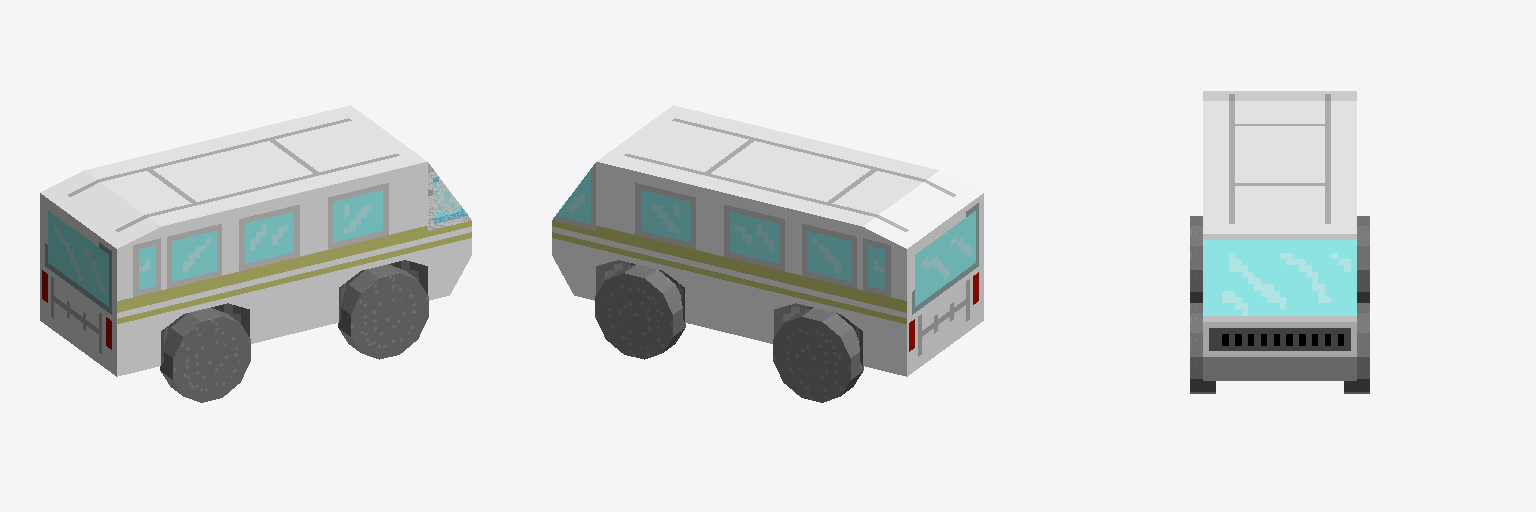
3 renders of one model, left to right at view 1: azimuth 30°, elevation 25°; view 2: azimuth 150°, elevation 25°; view 3: azimuth 270°, elevation 25°, orthographic.
Visible parts, largest first — view 1: frame, cylinder; view 2: frame, cylinder; view 3: frame, cylinder.
Part boxes in pixels (x1,y1,x2,y2): frame: (40, 105, 471, 376); cylinder: (160, 264, 428, 402); frame: (552, 105, 983, 376); cylinder: (595, 264, 863, 402); frame: (1203, 91, 1356, 380); cylinder: (1190, 216, 1369, 393).
Size of the model in its own units: 1 by 0.4844 by 0.4375.
1 materials, 1 textured.